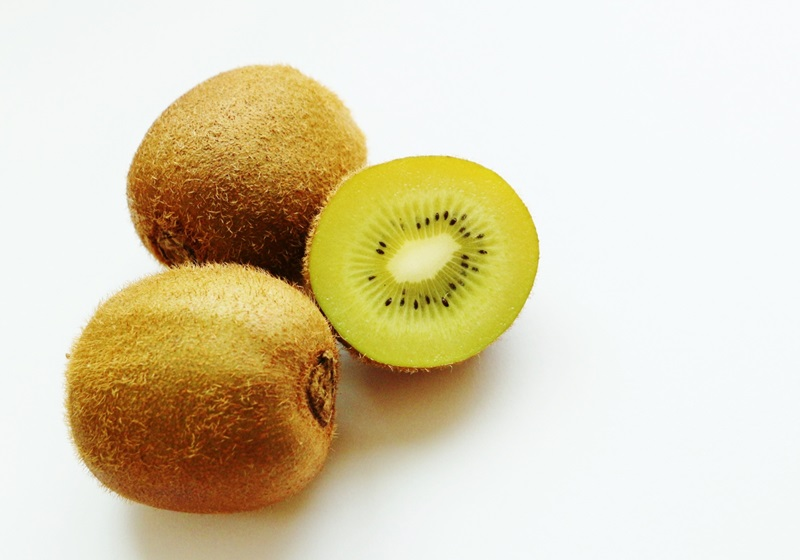kiwi: (64, 263, 339, 515), (125, 63, 368, 291)
